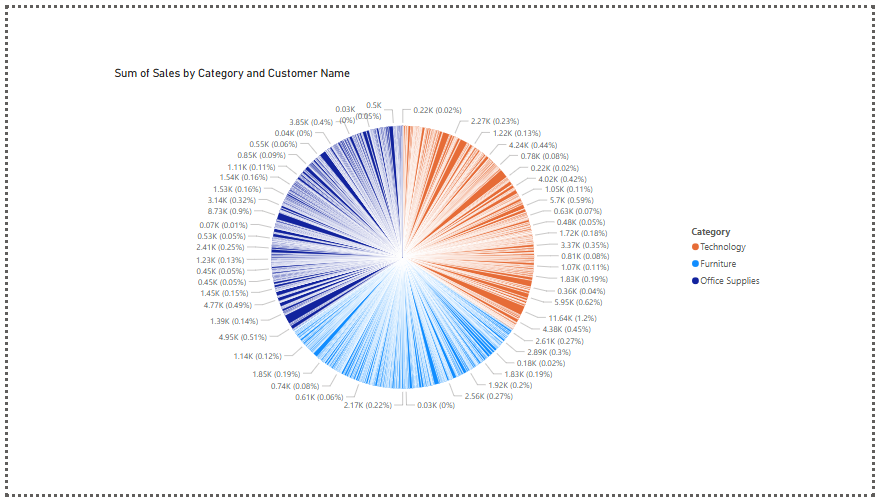

Layout of this report page (visuals, bound fields, positions):
{"tool":"powerbi","page":{"name":"Sales by customer name and category","canvas":[1280,720],"ordinal":4},"visuals":[{"type":"pieChart","fields":{"Category":["SuperStore_sales.Category"],"Series":["SuperStore_sales.Customer Name"],"Y":["SuperStore_sales.Sales"]},"box":[152.5,87.5,975,545],"z":0}]}

Visuals, with their boxes in screenshot pixels (x1, y1, x2, y2), scaled from the page's 1280x720 canvas onto the 880x502 screenshot:
pieChart - SuperStore_sales.Category x SuperStore_sales.Customer Name: pyautogui.locateOnScreen(105, 61, 775, 441)
